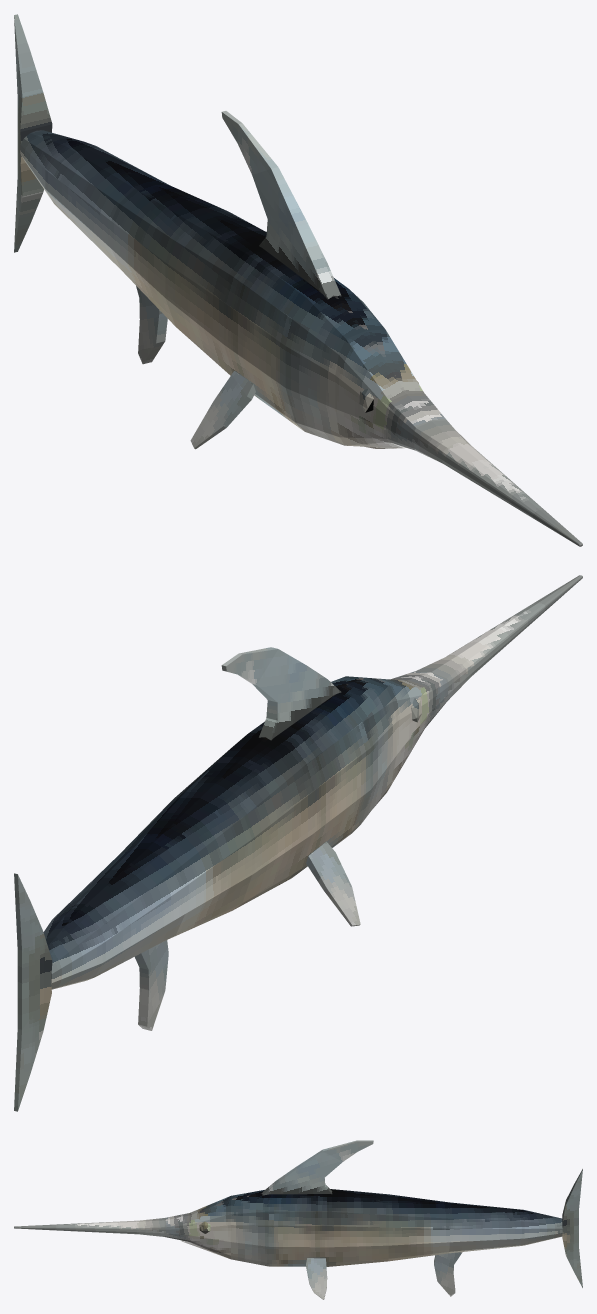
File: SwordFish.glb
3 renders of one model, top to bottom at view 1: azimuth 30°, elevation 25°; view 2: azimuth 150°, elevation 25°; view 3: azimuth 270°, elevation 25°, orthographic. The views are drawn at different scales.
Parts seen in each view (by area): view 1: Swordfish; view 2: Swordfish; view 3: Swordfish.
Boxes of the visible parts, x1,y1,x2,y2 form: Swordfish: (14,14,582,546); Swordfish: (14,575,582,1111); Swordfish: (14,1140,582,1299).
Size of the model in its own units: 1.49 by 2.62 by 8.73.
1 material, 1 textured.
